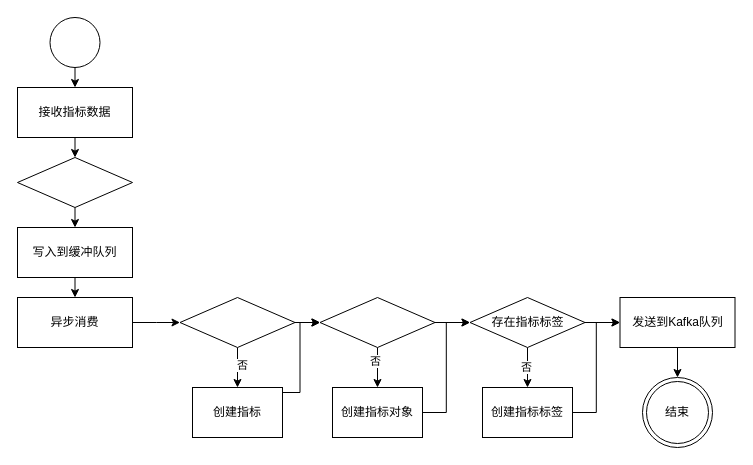
Image size: 753x465. Some labels were removed from this diagram. Each missing label, with the centre of its shape:
存在指标: the point at 237,322
存在指标对象: the point at 377,322
开始: the point at 74,42
校验: the point at 74,182
